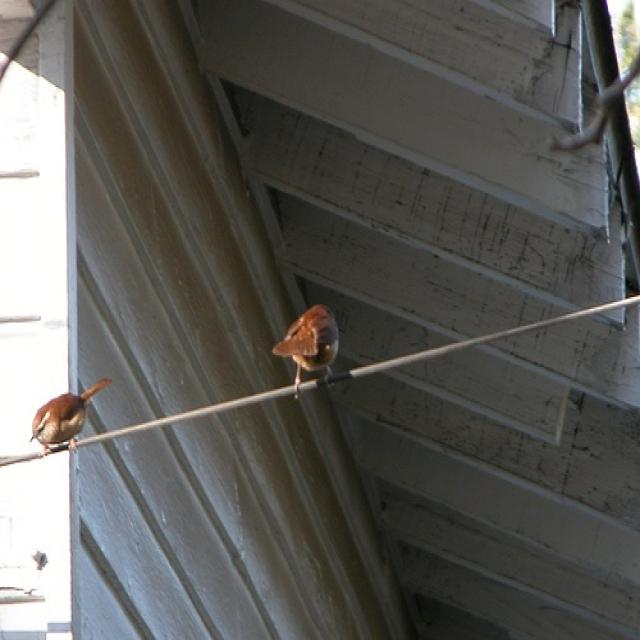bird: (272, 300, 341, 394), (27, 374, 110, 451)
